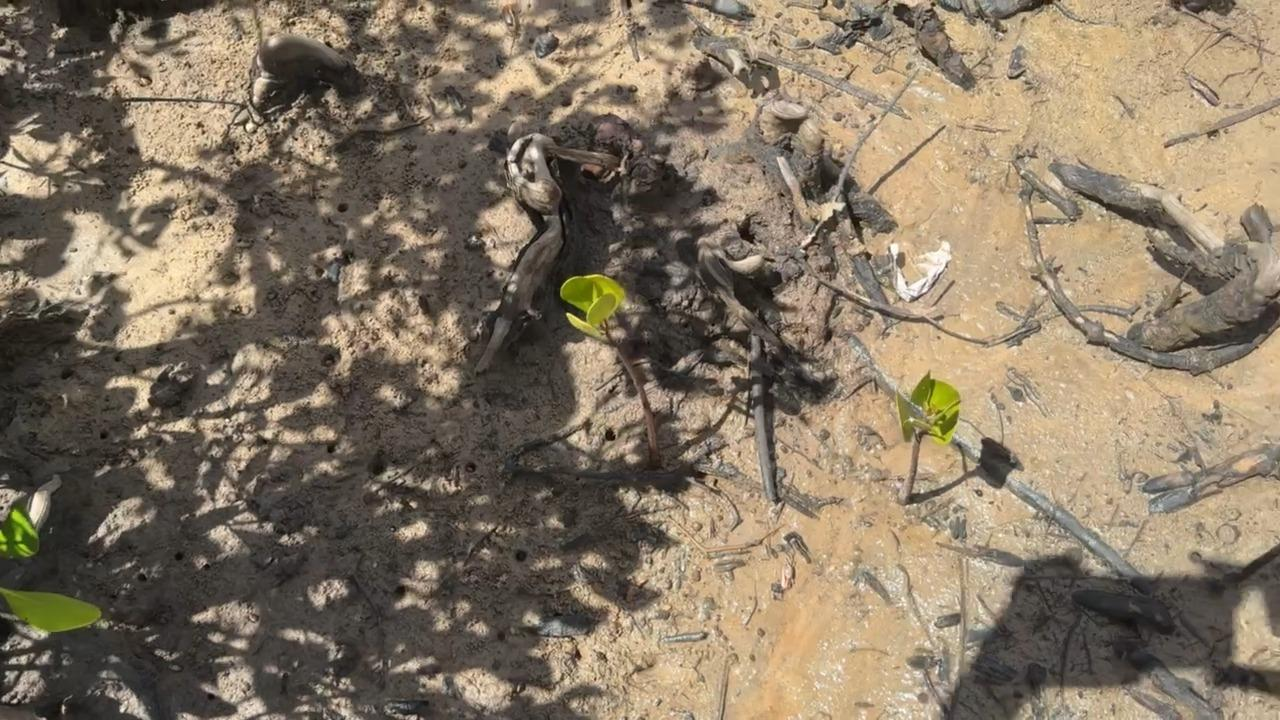Tree: (560, 276, 659, 467), (894, 368, 962, 506)
